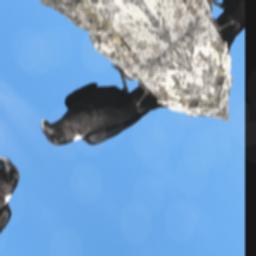Crow: (32, 45, 169, 185)
